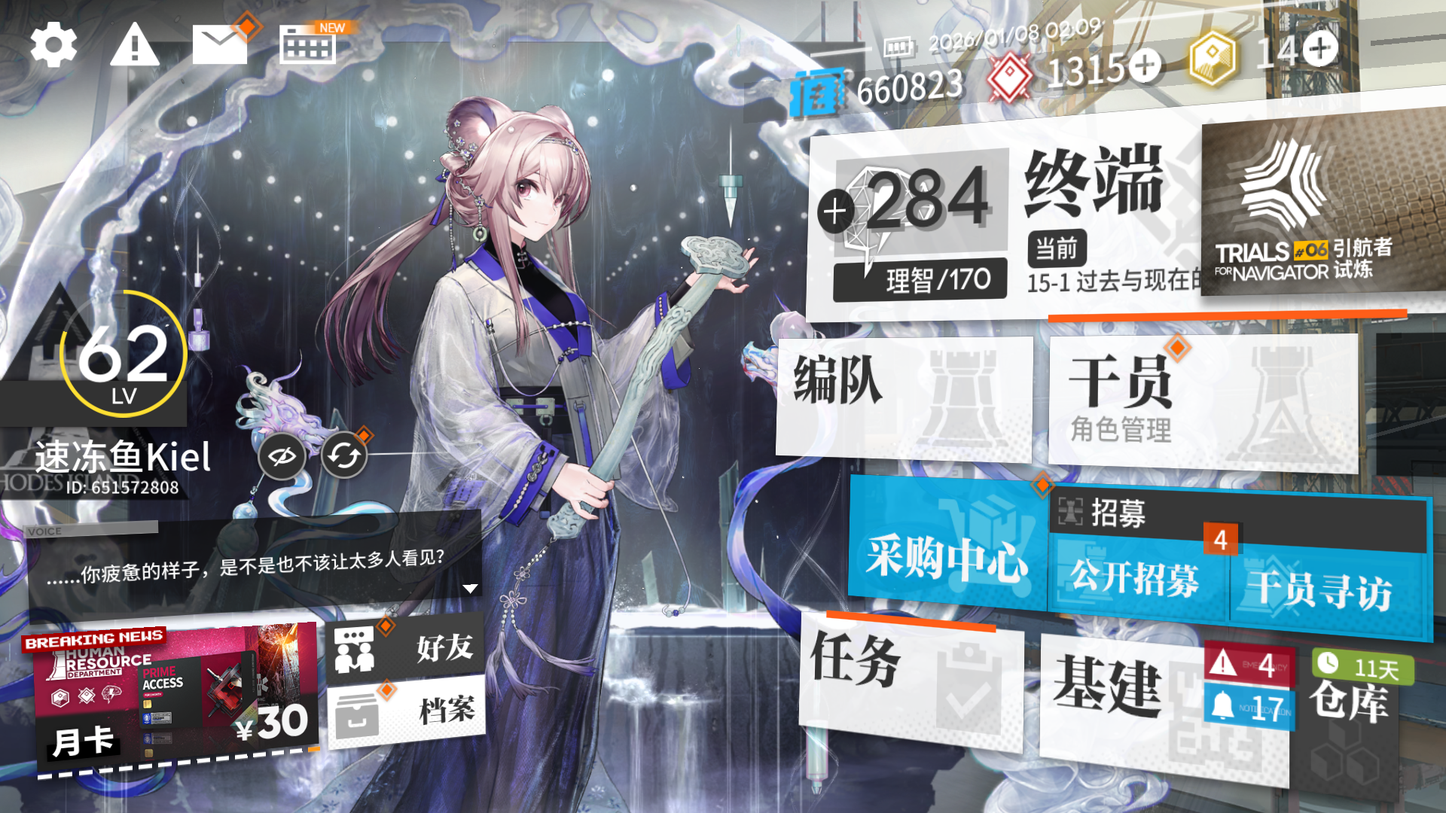home_button: (1011, 129, 1179, 239)
infrastructure_button: (1039, 631, 1278, 773)
